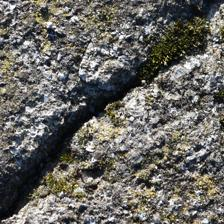Crack: (3, 29, 169, 191)
